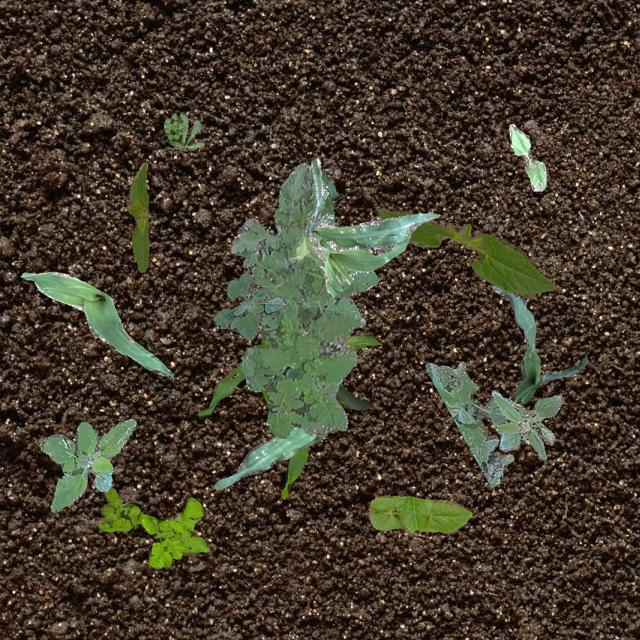crop: (197, 323, 380, 498), (288, 157, 438, 296), (377, 206, 553, 298), (20, 270, 172, 376), (492, 284, 586, 402), (214, 426, 326, 488), (368, 494, 472, 532), (508, 122, 546, 190), (126, 162, 148, 272)
weed: (230, 162, 378, 438), (424, 361, 528, 486), (40, 418, 136, 512), (98, 487, 208, 568), (490, 388, 562, 458), (212, 272, 284, 338), (162, 112, 204, 150)
